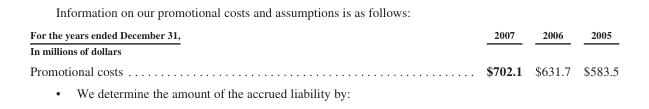table: (29, 28, 618, 78)
table column: (29, 28, 332, 78), (332, 28, 527, 78), (527, 28, 576, 78), (576, 28, 618, 78)
table column header: (29, 28, 618, 42)
table projected row header: (29, 42, 618, 59)
table row: (29, 59, 618, 78), (29, 42, 618, 59), (29, 28, 618, 42)
